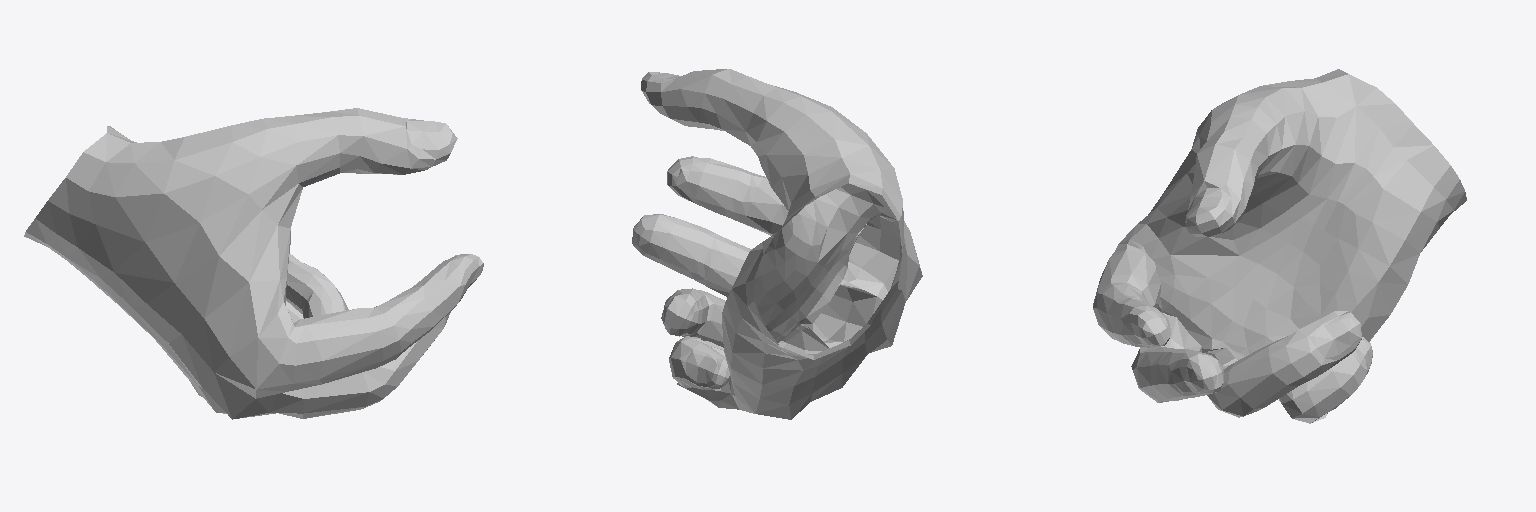
File: verts2.obj
3 views of the same model, side by side, from view 1: azimuth 30°, elevation 25°; view 2: azimuth 150°, elevation 25°; view 3: azimuth 270°, elevation 25° (orthographic).
Bounding box in the file's own units: 0.1308 × 0.1076 × 0.1237.